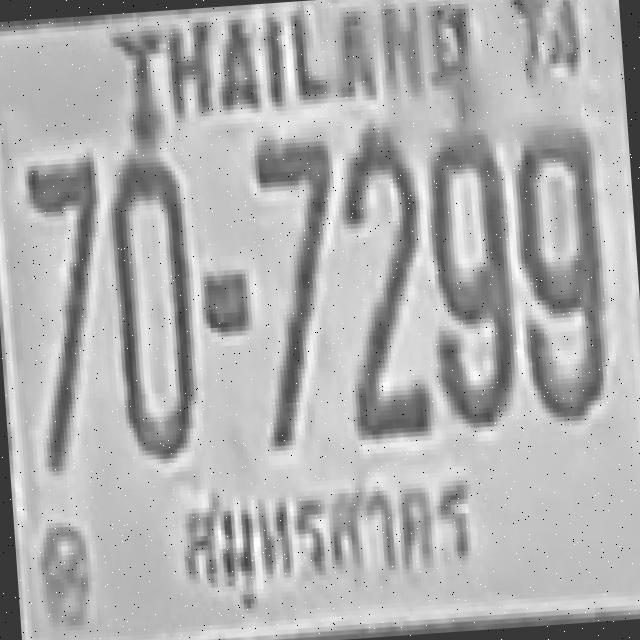0: (103, 149, 198, 459)
2: (332, 125, 428, 384), (337, 184, 431, 433)
7: (250, 134, 340, 340), (250, 134, 338, 308)
9: (508, 120, 609, 420), (419, 126, 516, 427)
SamutSakhon: (159, 453, 492, 627)
